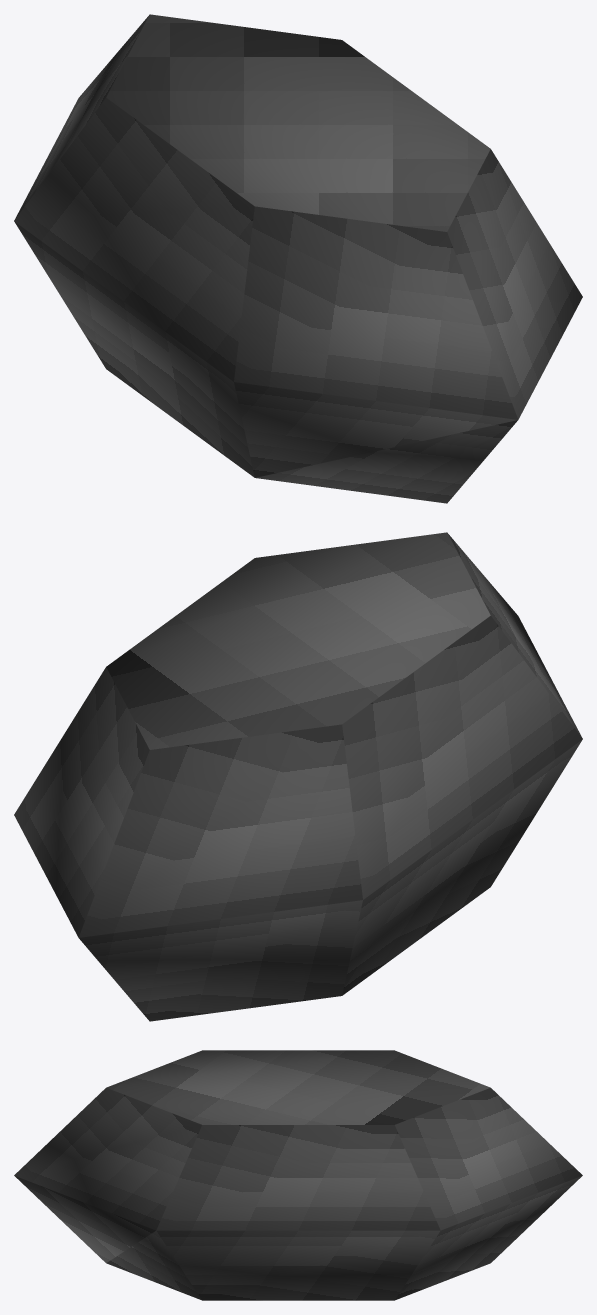
File: TalismanOfChaos.glb
The picture shows the model from 3 angles, top to bottom: view 1: azimuth 30°, elevation 25°; view 2: azimuth 150°, elevation 25°; view 3: azimuth 270°, elevation 25°; orthographic projection. The views are drawn at different scales.
Parts seen in each view (by area): view 1: model_TalismanOfChaos; view 2: model_TalismanOfChaos; view 3: model_TalismanOfChaos.
Part boxes in pixels (x1=…): model_TalismanOfChaos: x1=14, y1=14, x2=582, y2=503; model_TalismanOfChaos: x1=14, y1=532, x2=582, y2=1021; model_TalismanOfChaos: x1=14, y1=1050, x2=582, y2=1300.
Bounding box in the file's own units: 0.1519 × 0.1129 × 0.3316.
1 material, 1 textured.
